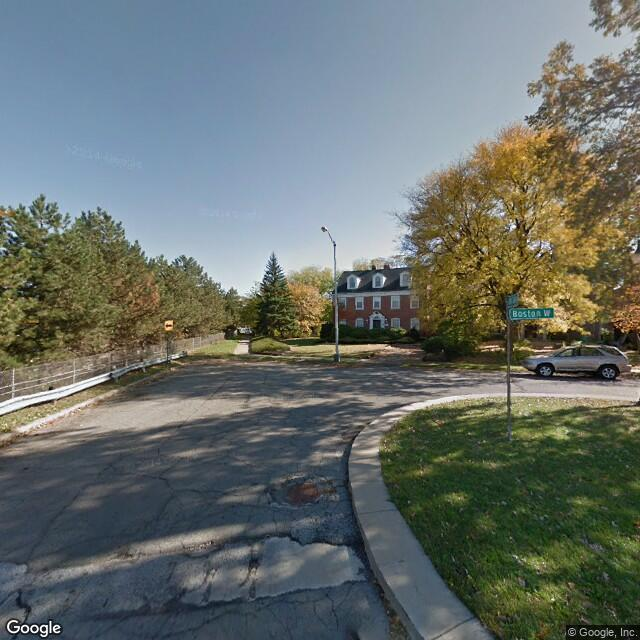litter: (429, 415, 445, 428)
